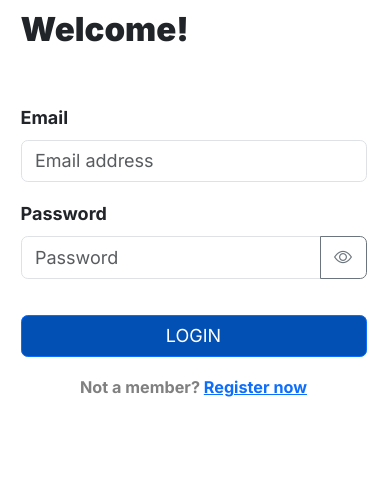
Test: Login page (Vitest) › shows error when credentials are invalid
This screenshot has width=389, height=486.
Type "invalid@example.com" into the field with placeholder "Email address" at coordinates (194, 161), box x1=20 y1=140 x2=366 y2=182
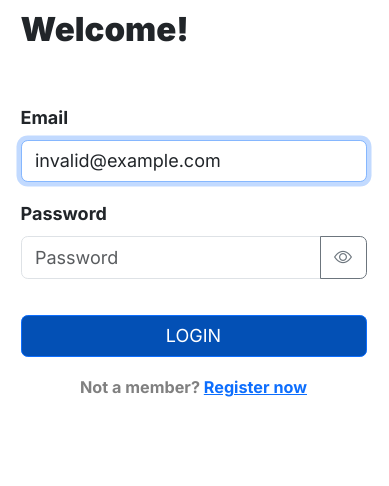
Type "wrongpassword" into the password field with placeholder "Password" at coordinates (170, 257), box x1=20 y1=236 x2=320 y2=279
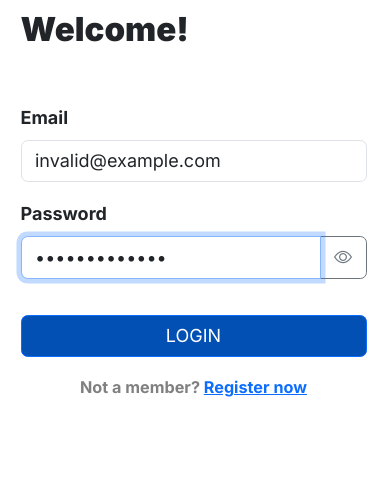
Click the button "LOGIN" at coordinates (194, 336), box x1=20 y1=315 x2=366 y2=357
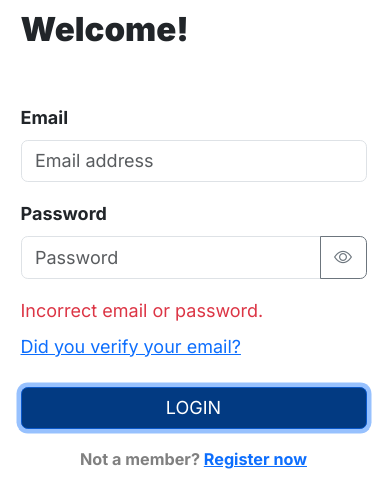
Check: the text "Incorrect email or password." is shown, box x1=20 y1=300 x2=263 y2=321
